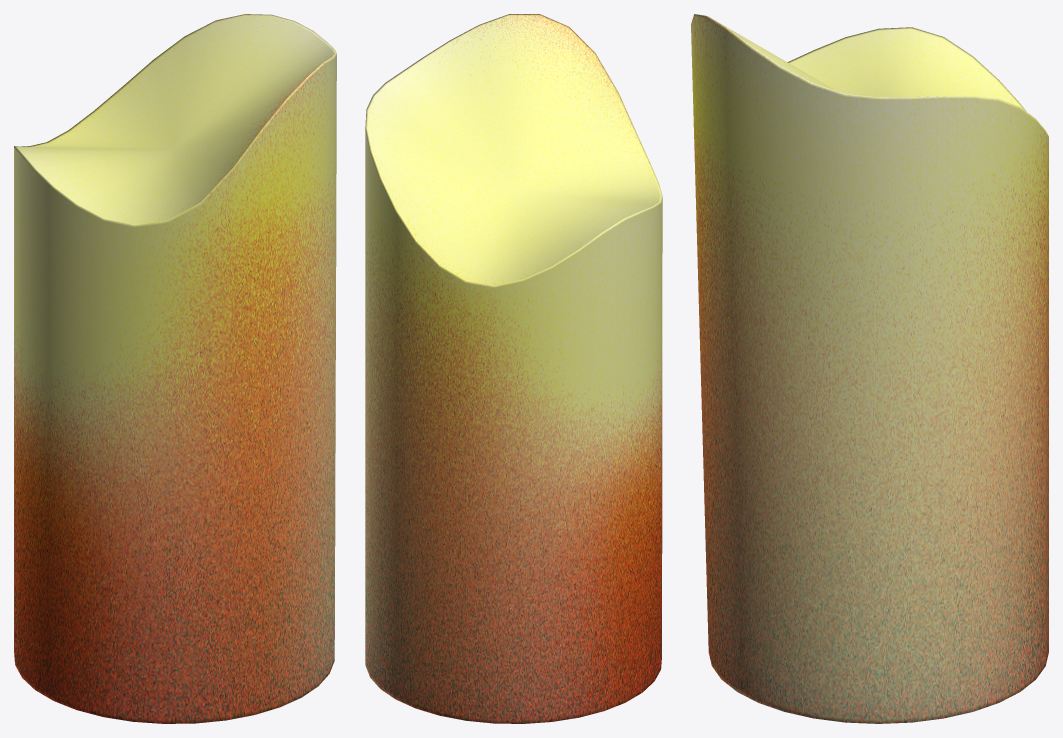
Rendered from candle.fbx.
The picture shows the model from 3 angles, left to right: view 1: azimuth 30°, elevation 25°; view 2: azimuth 150°, elevation 25°; view 3: azimuth 270°, elevation 25°; orthographic projection. The views are drawn at different scales.
Parts seen in each view (by area): view 1: Cylinder.002; view 2: Cylinder.002; view 3: Cylinder.002.
Part boxes in pixels (x1,y1,x2,y2): Cylinder.002: (14,14,336,723); Cylinder.002: (365,14,662,723); Cylinder.002: (691,14,1048,723).
Size of the model in its own units: 10 by 21.55 by 10.52.
